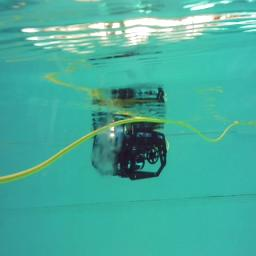front: (92, 124, 166, 180)
